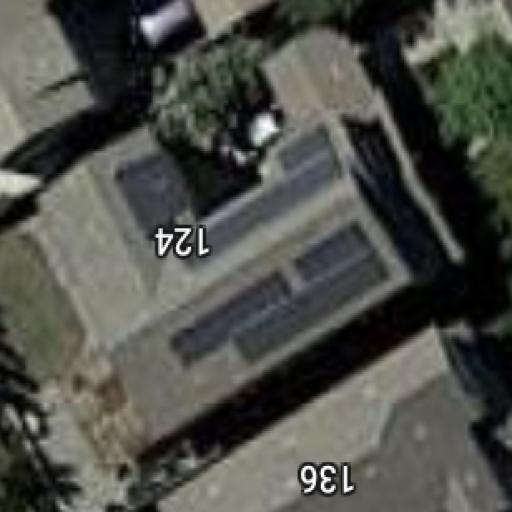Solar-Slope-Roof: (34, 23, 458, 444)
